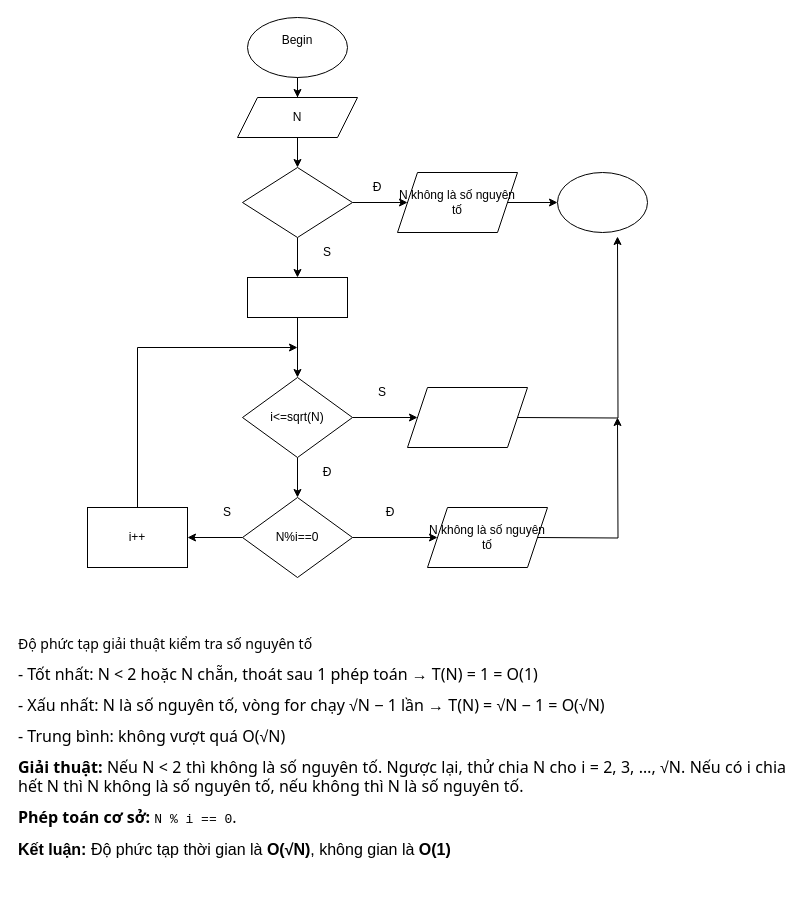
Image size: 804x915. Some labels were removed from this diagram. Here are the shapes that lost their labels. From the top down, the centre of each, then its label:
At [297,202]: "N<2".
At [602,202]: "End".
At [297,297]: "i=2".
At [467,417]: "N là số nguyên tố".
